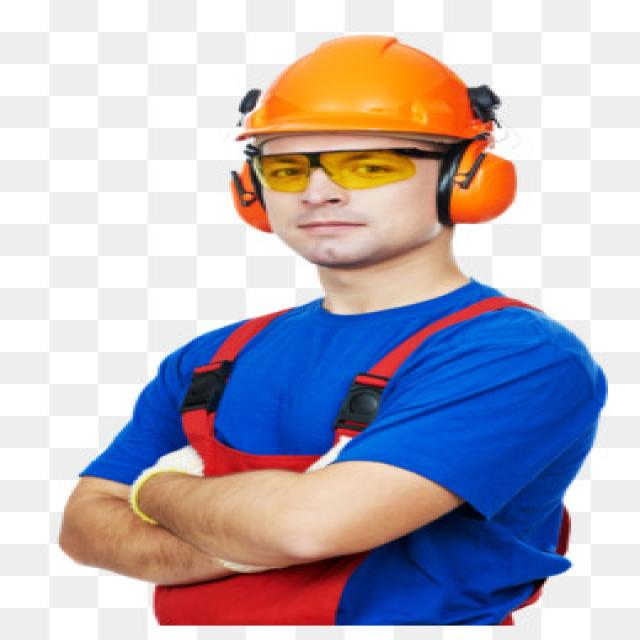glasses: (232, 148, 421, 192)
